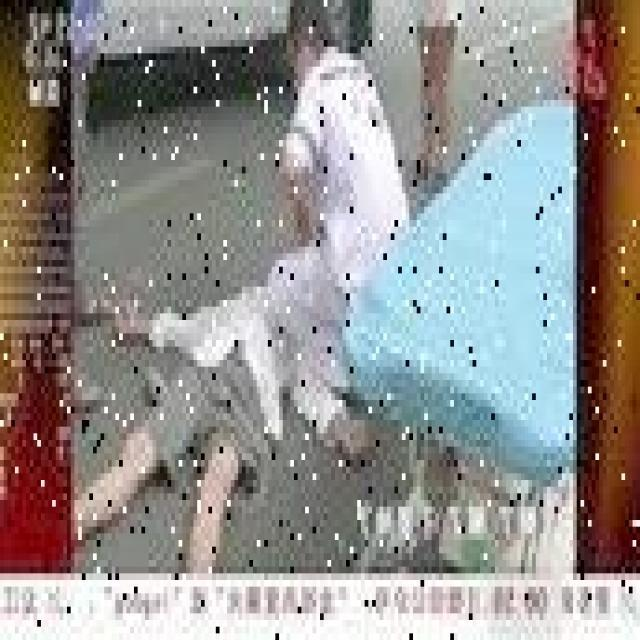fall: (82, 273, 331, 560)
